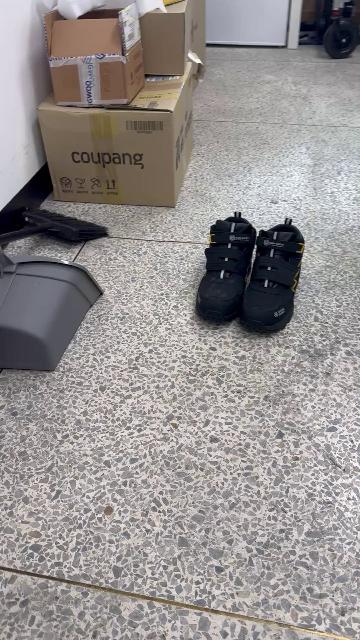shoe_worn: (236, 218, 306, 339), (196, 212, 254, 326)
